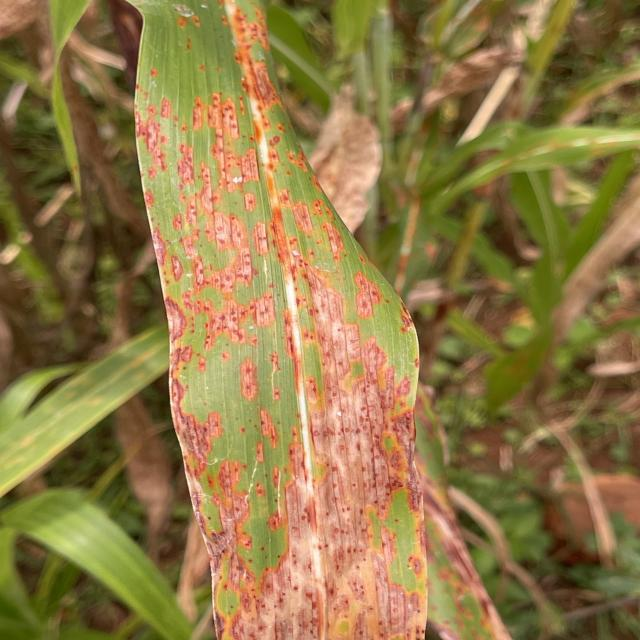millet_rust: (130, 2, 433, 636)
